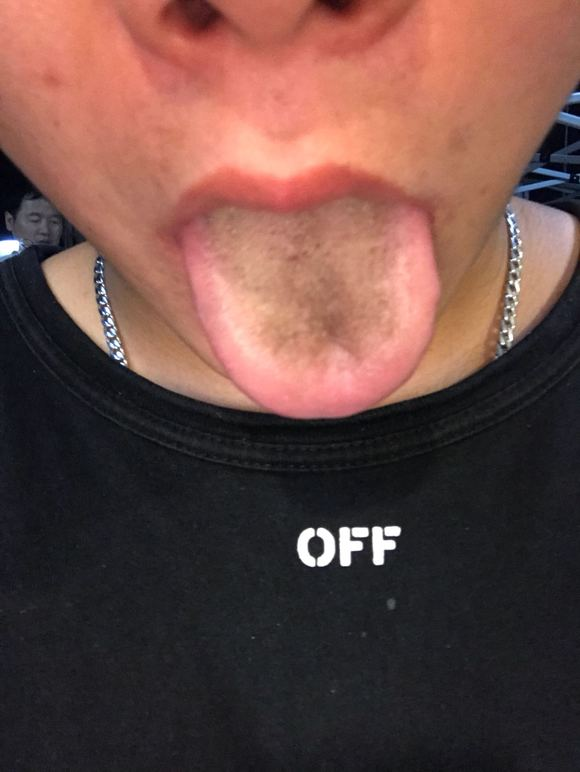heitaishe: (182, 197, 441, 418)
huangtaishe: (182, 197, 441, 418)
